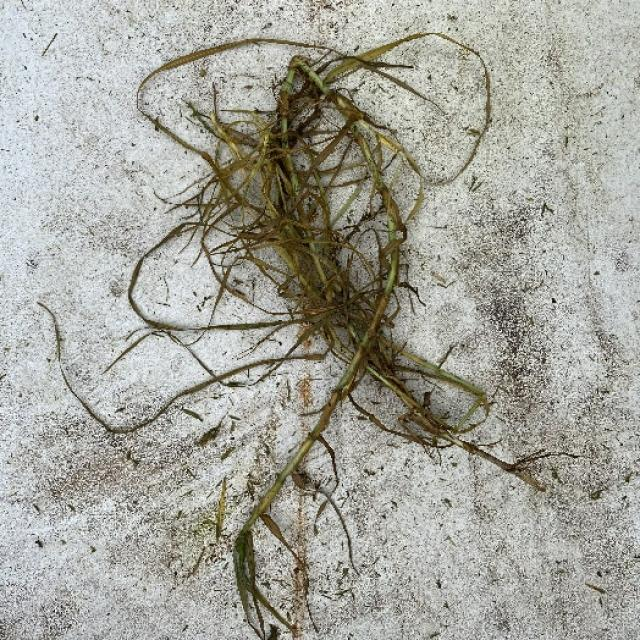organik: (138, 44, 506, 606)
